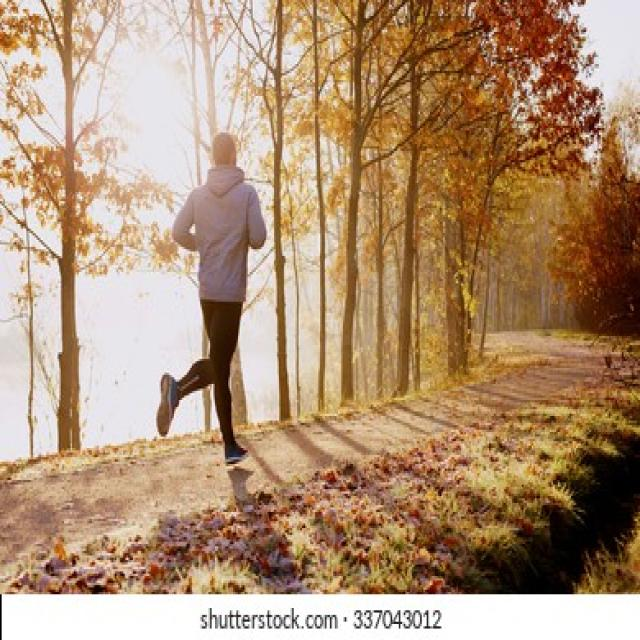running: (153, 128, 270, 467)
